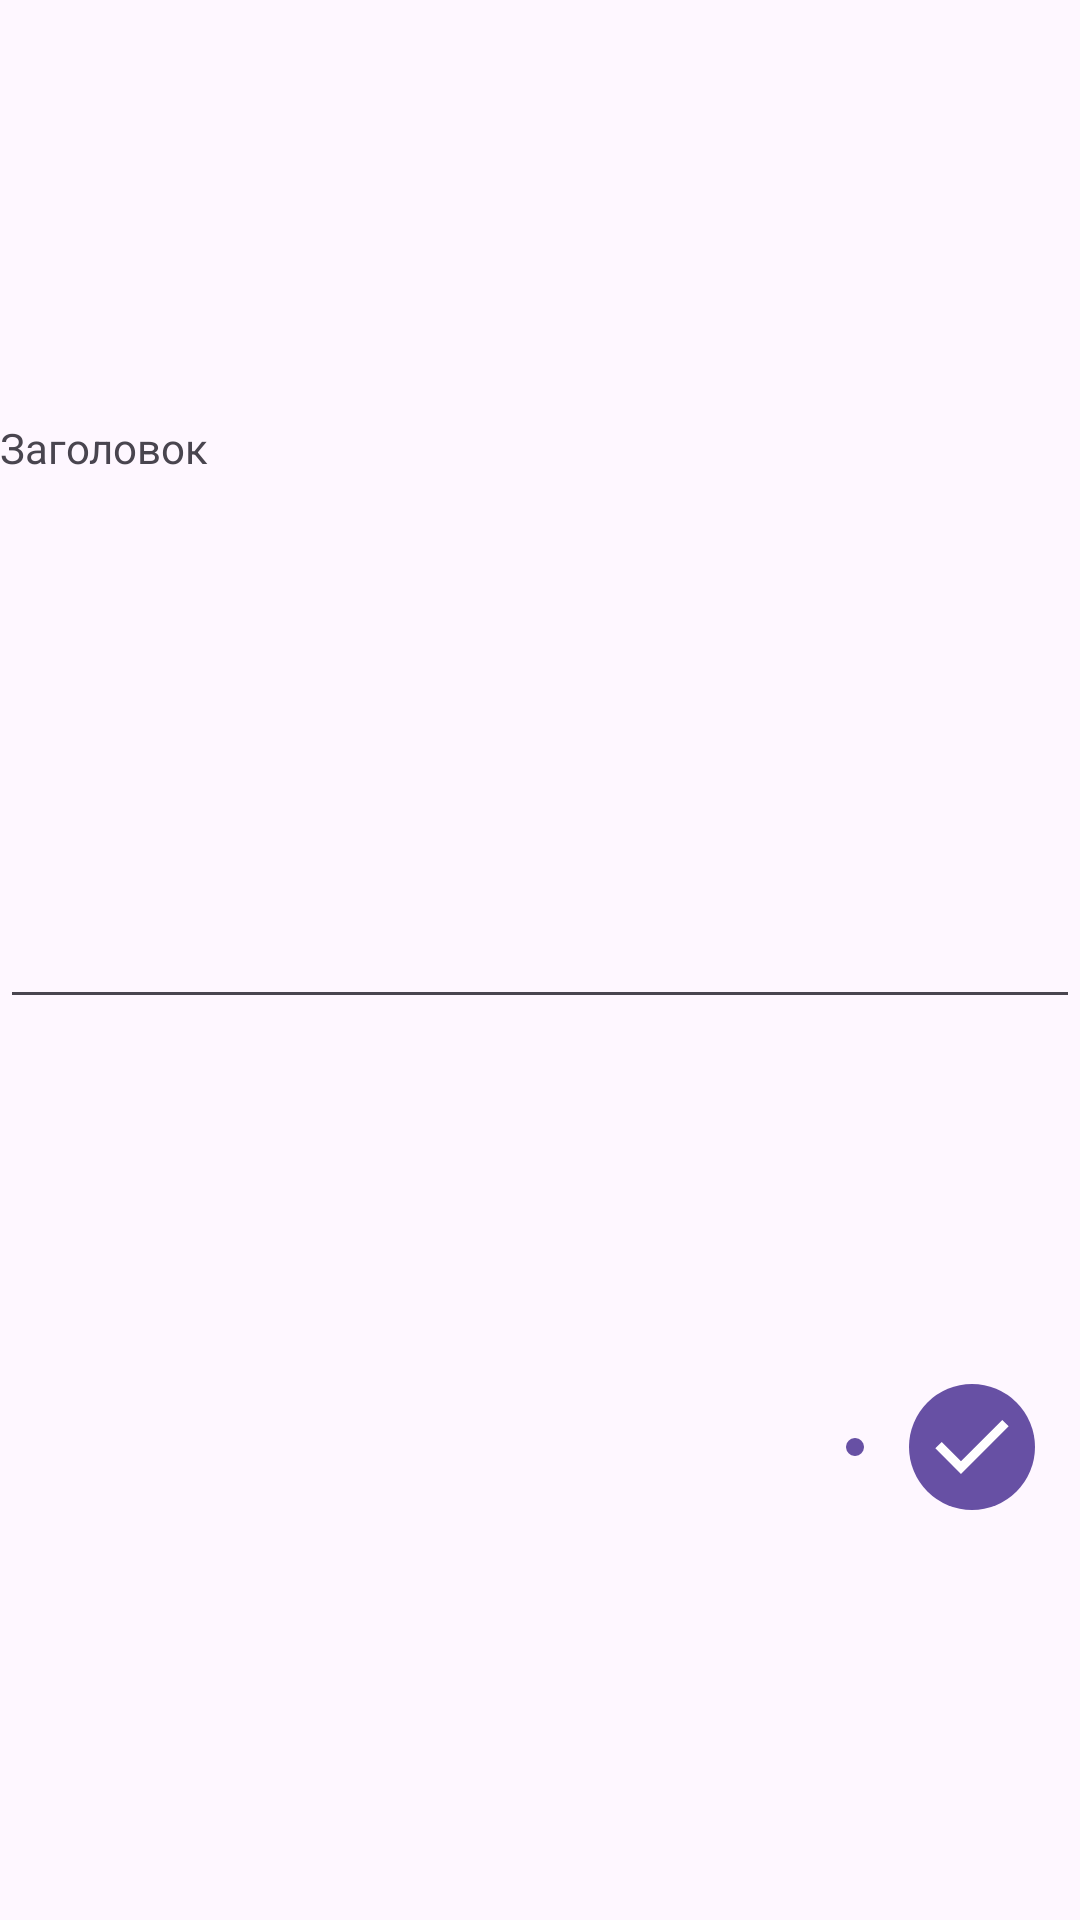

Icons on this 1080px x 1920px Android screen, each with its box as (x1, y1, x2, y2):
all confirm: (909, 1384, 1035, 1510)
